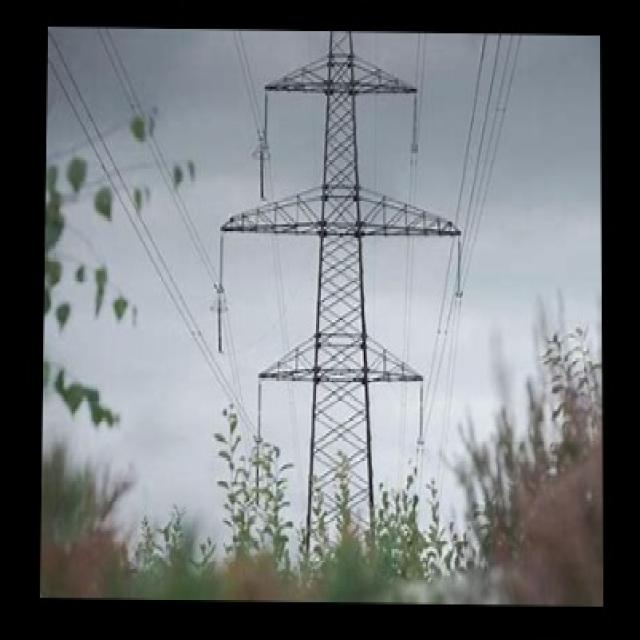utility poles: (213, 354, 485, 599)
